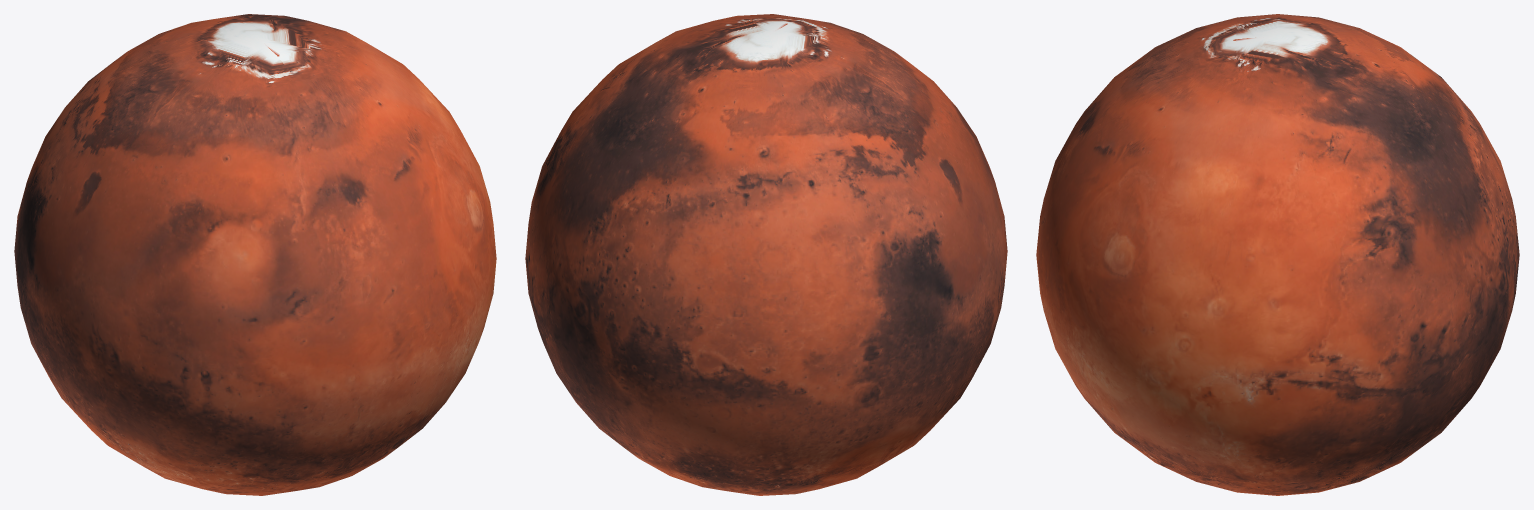
File: mars.fbx
3 views of the same model, side by side, from view 1: azimuth 30°, elevation 25°; view 2: azimuth 150°, elevation 25°; view 3: azimuth 270°, elevation 25° (orthographic).
Visible parts, largest first — view 1: mars; view 2: mars; view 3: mars.
Boxes of the visible parts, bbox=[...] form: mars: bbox=[14, 14, 496, 495]; mars: bbox=[525, 14, 1007, 495]; mars: bbox=[1036, 14, 1519, 495].
Size of the model in its own units: 2 by 2 by 2.
1 material, 1 textured.
